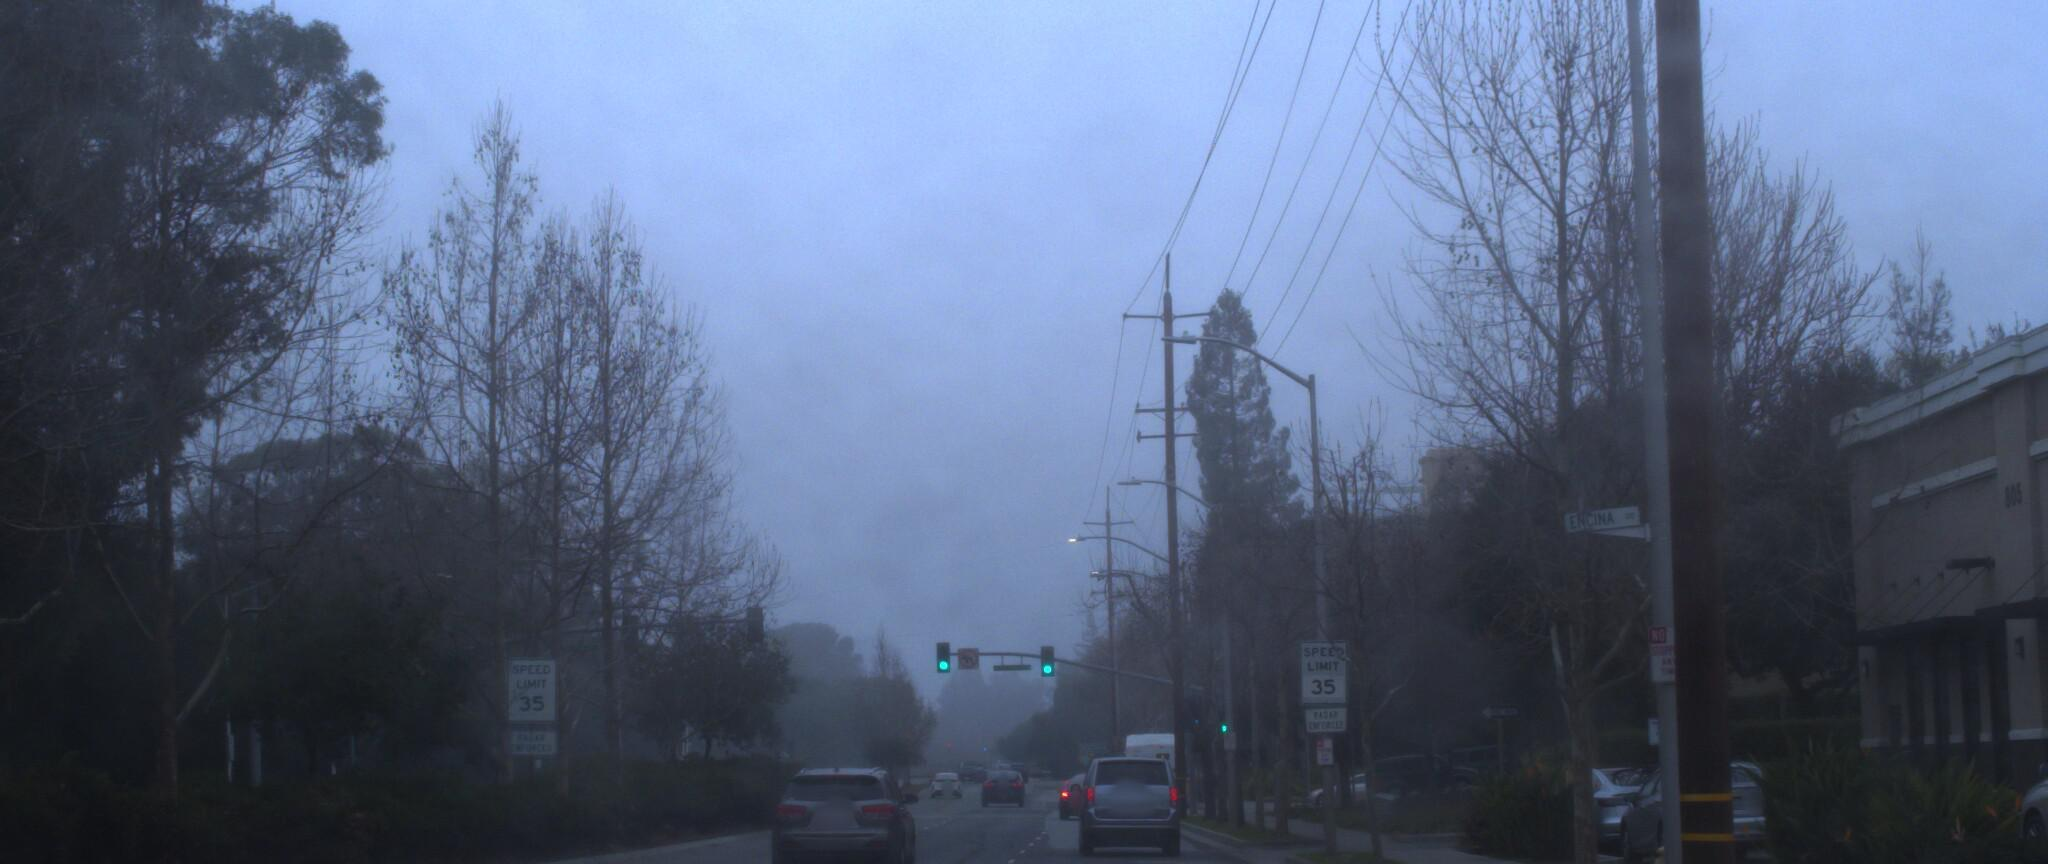car: (1592, 750, 1789, 864), (755, 745, 922, 864), (1526, 750, 1695, 854), (1068, 748, 1186, 851), (1993, 711, 2048, 864)
